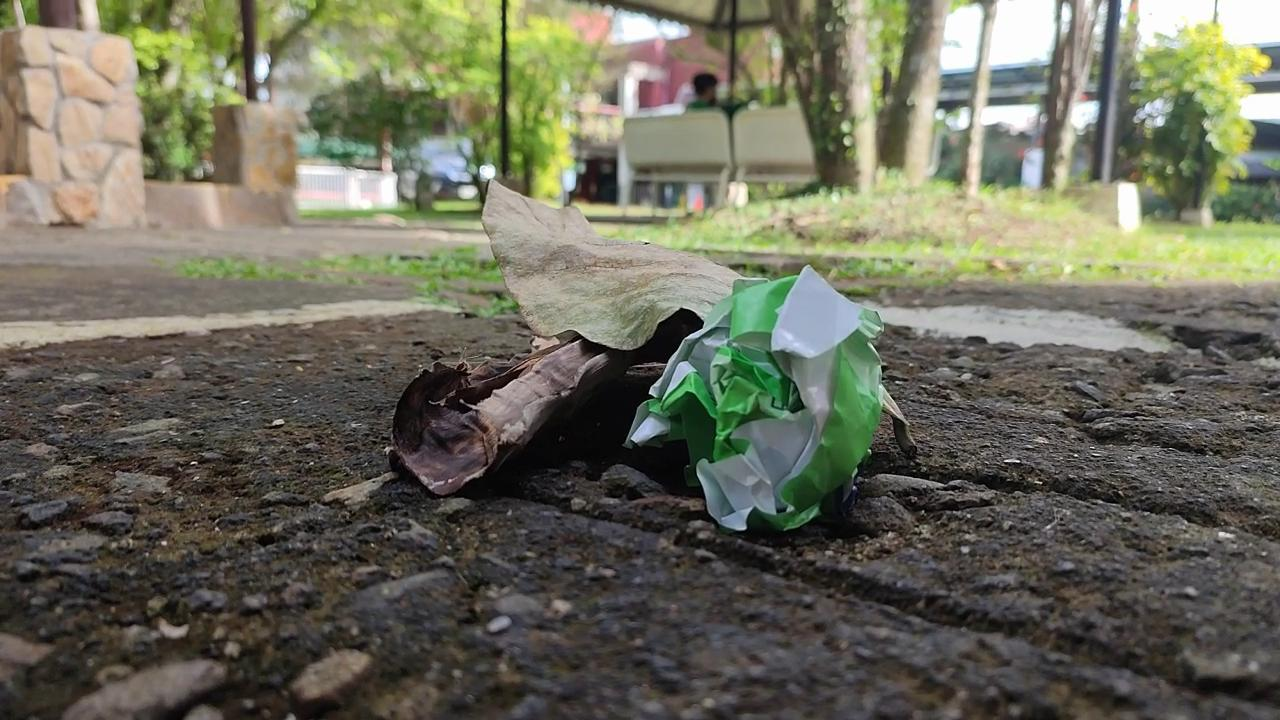Paper: (618, 247, 893, 550)
